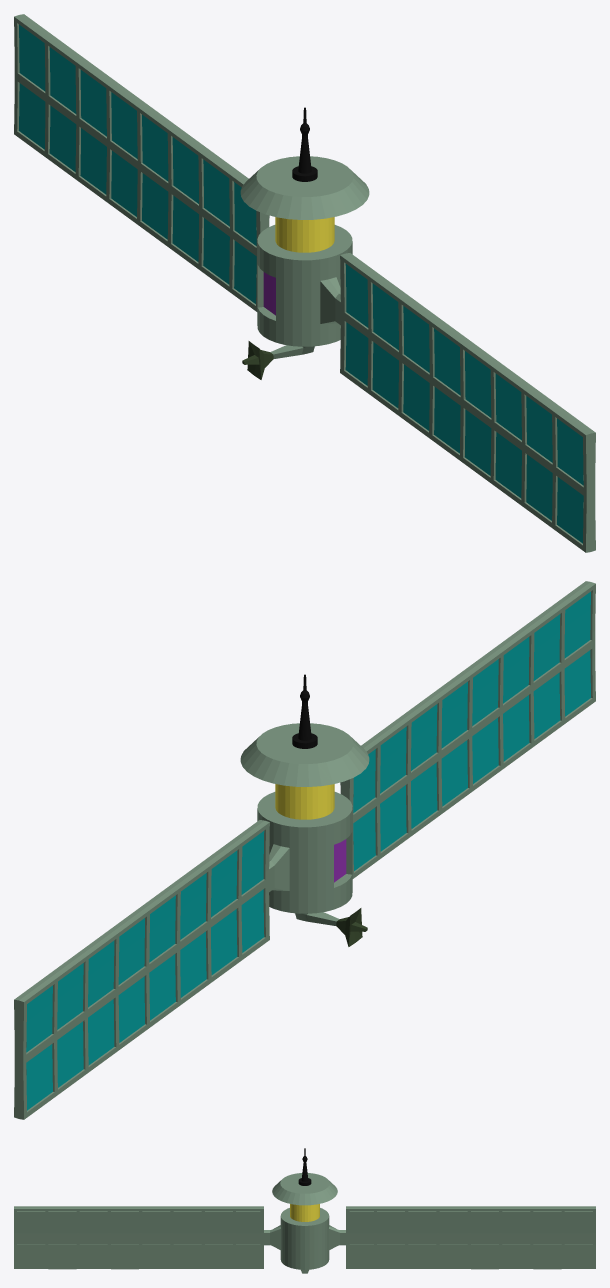
File: satelite2.fbx
3 views of the same model, one above another, from view 1: azimuth 30°, elevation 25°; view 2: azimuth 150°, elevation 25°; view 3: azimuth 270°, elevation 25° (orthographic). The views are drawn at different scales.
Visible parts, largest first — view 1: Cylinder; view 2: Cylinder; view 3: Cylinder.
Part boxes in pixels (bbox=[...]): Cylinder: bbox=[14, 14, 595, 552]; Cylinder: bbox=[14, 581, 595, 1119]; Cylinder: bbox=[14, 1148, 595, 1273].
Bounding box in the file's own units: 2.85 × 5.9 × 24.
